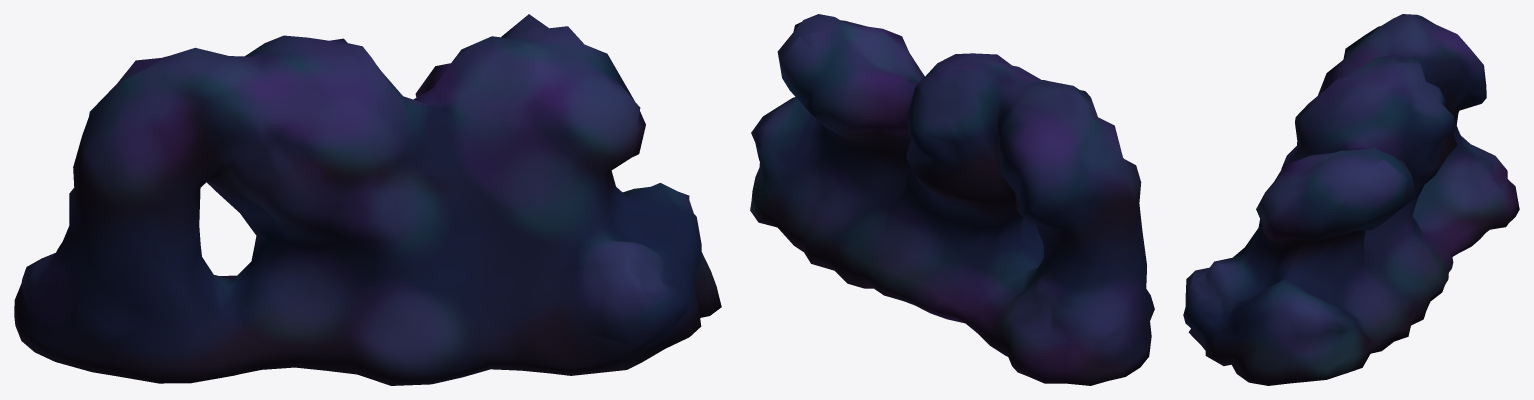
3 views of the same model, side by side, from view 1: azimuth 30°, elevation 25°; view 2: azimuth 150°, elevation 25°; view 3: azimuth 270°, elevation 25° (orthographic). The views are drawn at different scales.
Parts seen in each view (by area): view 1: cliff2; view 2: cliff2; view 3: cliff2.
Part boxes in pixels (x1,y1,x2,y2): cliff2: (14, 14, 721, 385); cliff2: (750, 14, 1154, 385); cliff2: (1183, 14, 1519, 385).
Size of the model in its own units: 403 by 198 by 283.
1 material, 1 textured.
